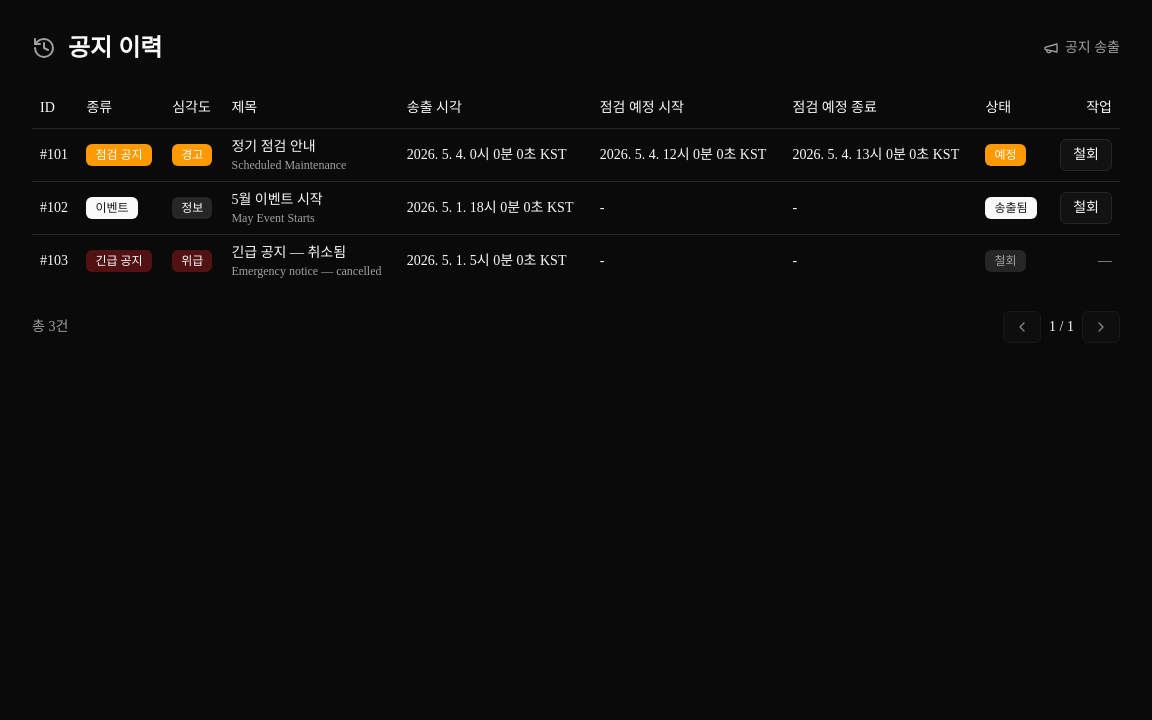
Test: AnnouncementsHistoryWidget › 철회 버튼 → confirm 모달 → 확정 → 취소 mutation 호출
Later steps or results of the test are not shown.
Expected: the text "정기 점검 안내" is shown, [232, 138, 316, 154]
Click the button with aria-label "공지 #101 철회": x=1086, y=154 [1060, 138, 1112, 170]
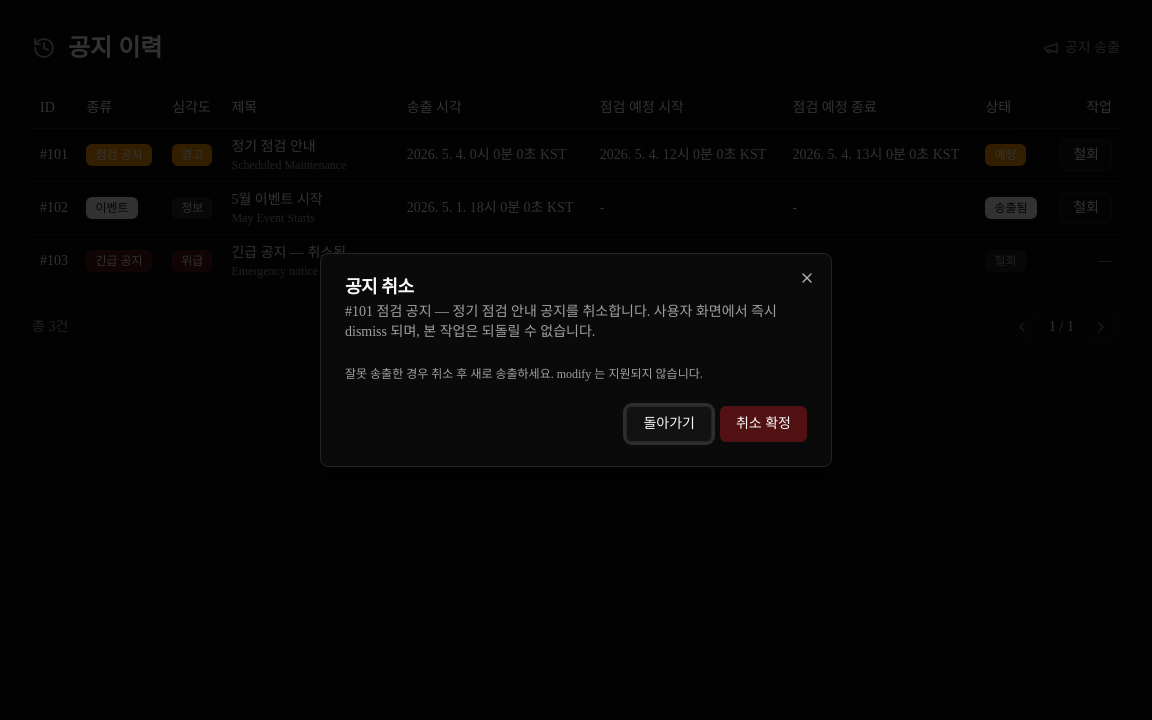
Expected: the heading "공지 취소" is shown, [345, 277, 414, 297]
